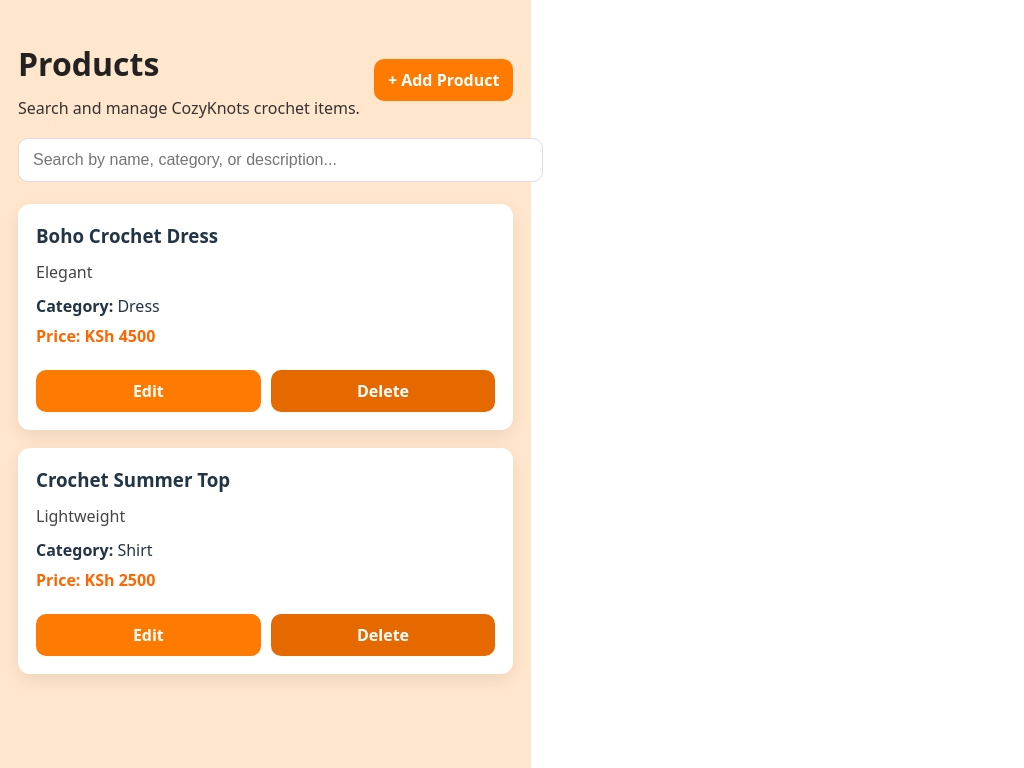
Test: Search filters products by name
In the field with placeholder "Search by name, category, or description...": [281, 160] box x1=18 y1=138 x2=543 y2=182, type "dress"
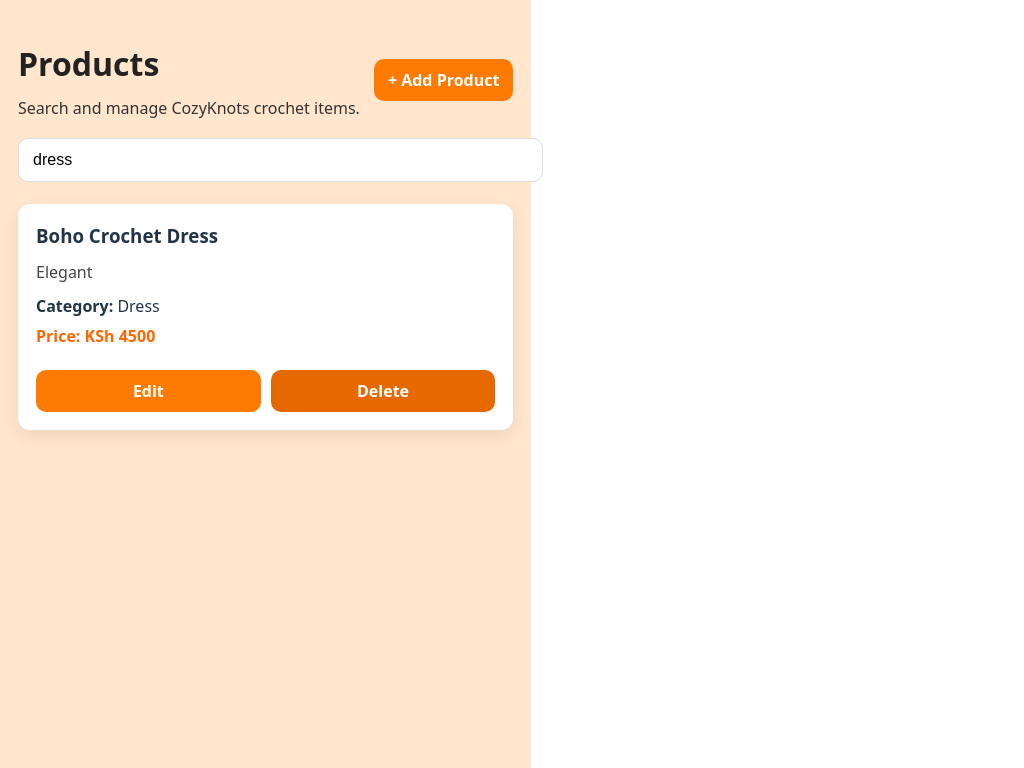
Expected: the heading "Boho Crochet Dress" is shown, x1=36 y1=223 x2=218 y2=248
Expected: the heading "Crochet Summer Top" is gone
